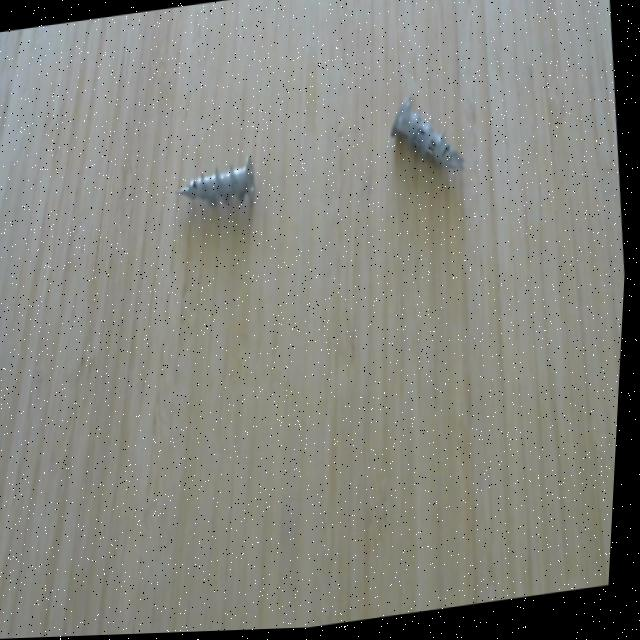Short screw: (380, 85, 489, 206), (169, 150, 269, 228)
